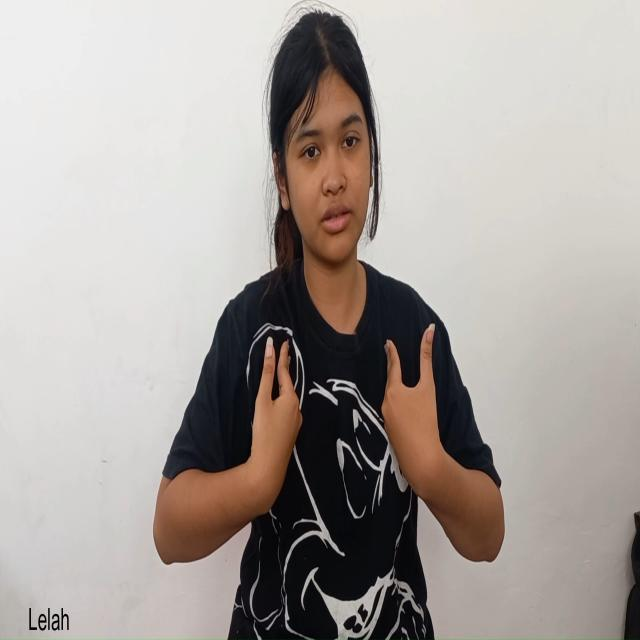Lelah -BISINDO-: (152, 322, 506, 564)
